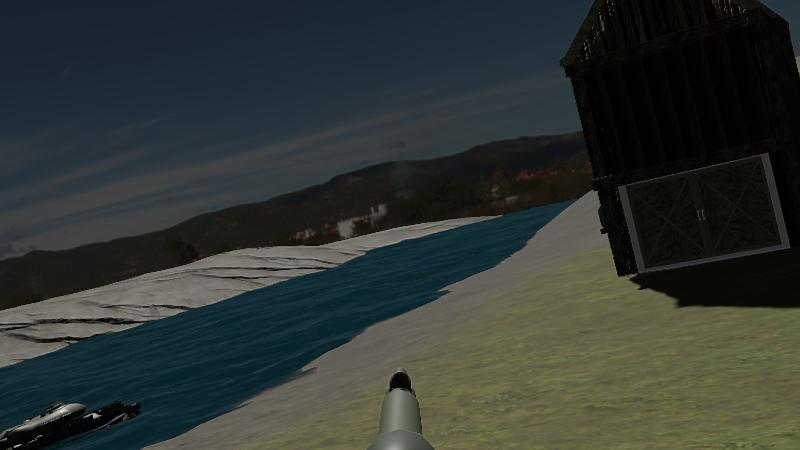Tank: (0, 392, 145, 450)
